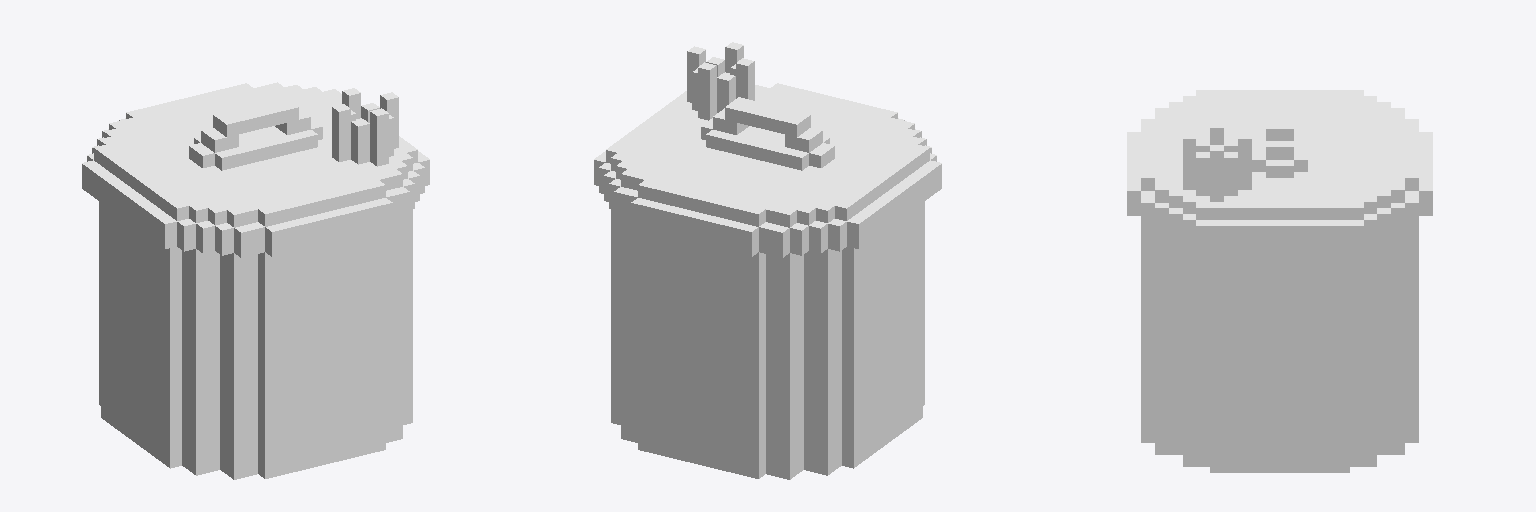
Rendered from KingofKaYa.obj.
3 views of the same model, side by side, from view 1: azimuth 30°, elevation 25°; view 2: azimuth 150°, elevation 25°; view 3: azimuth 270°, elevation 25° (orthographic).
Visible parts, largest first — view 1: object 1; view 2: object 1; view 3: object 1.
Boxes of the visible parts, box(x1,y1,x2,y2) form: object 1: box(82, 82, 429, 479); object 1: box(594, 42, 941, 479); object 1: box(1127, 90, 1432, 472).
Size of the model in its own units: 2.2 by 2.5 by 2.2.